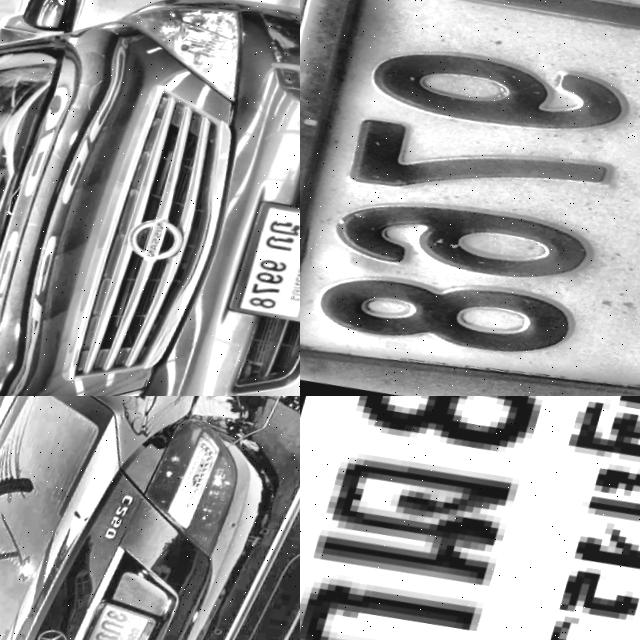license-plate: (300, 0, 640, 396), (300, 396, 640, 640), (218, 194, 300, 338), (71, 597, 176, 640)
